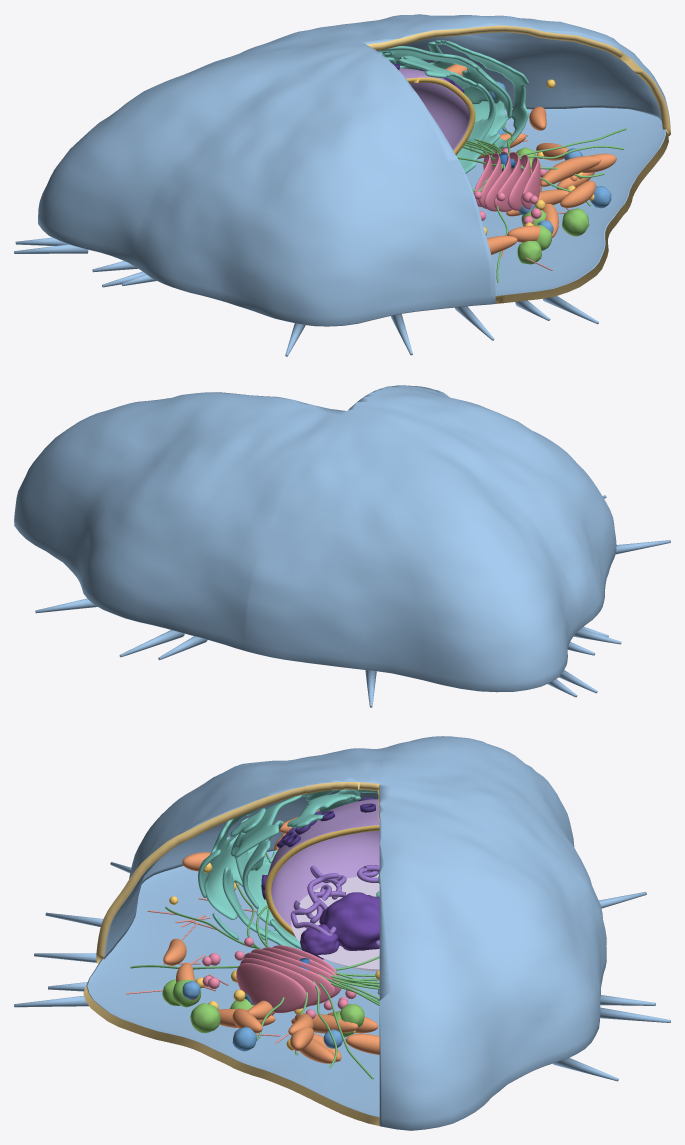
File: hek293t_cell.glb
The picture shows the model from 3 angles, top to bottom: view 1: azimuth 30°, elevation 25°; view 2: azimuth 150°, elevation 25°; view 3: azimuth 270°, elevation 25°; orthographic projection. The views are drawn at different scales.
Parts seen in each view (by area): view 1: PlasmaMembrane, NuclearEnvelope, ER.2, ER.1, ER.0, Mitochondrion.04, Golgi.1, Lysosome.00, Golgi.2, Mitochondrion.18, Golgi.3, Golgi.0; view 2: PlasmaMembrane, Filopodium.04; view 3: PlasmaMembrane, NuclearEnvelope, ER.1, ER.2, Nucleolus.0, Golgi.0, ER.0, Nucleoplasm, Nucleolus.2, Golgi.2, Golgi.1, Lysosome.00 (+1 smaller).
Part boxes in pixels (x1,y1,x2,y2): PlasmaMembrane: [38, 14, 670, 326]; NuclearEnvelope: [399, 68, 475, 155]; ER.2: [382, 40, 528, 151]; ER.1: [377, 46, 512, 173]; ER.0: [379, 52, 495, 151]; Mitochondrion.04: [540, 156, 600, 186]; Golgi.1: [507, 154, 530, 210]; Lysosome.00: [562, 208, 589, 236]; Golgi.2: [494, 152, 521, 211]; Mitochondrion.18: [560, 180, 595, 207]; Golgi.3: [484, 151, 511, 211]; Golgi.0: [521, 157, 540, 209]; PlasmaMembrane: [14, 385, 616, 692]; Filopodium.04: [119, 630, 184, 657]; PlasmaMembrane: [83, 736, 606, 1130]; NuclearEnvelope: [265, 799, 379, 937]; ER.1: [222, 789, 379, 1001]; ER.2: [198, 789, 360, 940]; Nucleolus.0: [319, 892, 379, 950]; Golgi.0: [236, 963, 306, 1013]; ER.0: [242, 794, 379, 994]; Nucleoplasm: [291, 874, 379, 971]; Nucleolus.2: [300, 924, 339, 959]; Golgi.2: [243, 952, 334, 1005]; Golgi.1: [240, 958, 320, 1009]; Lysosome.00: [190, 1003, 220, 1033].
Size of the model in its own units: 19.7 by 5.47 by 16.67.
